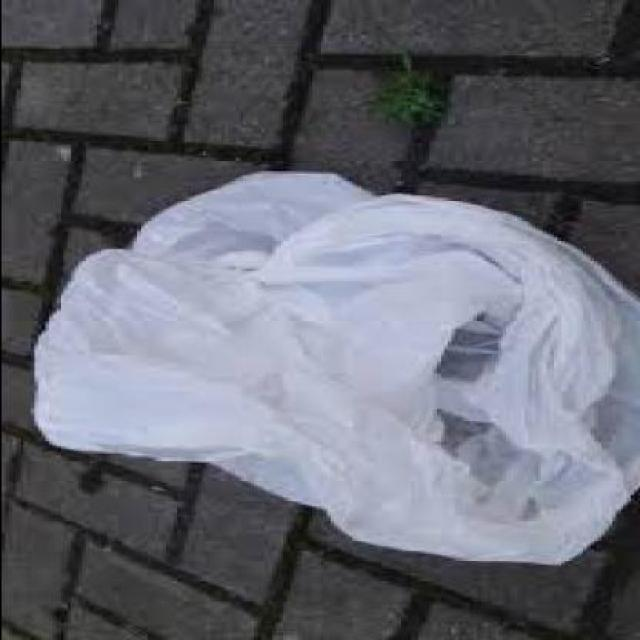PLASTIC: (26, 168, 636, 562)
